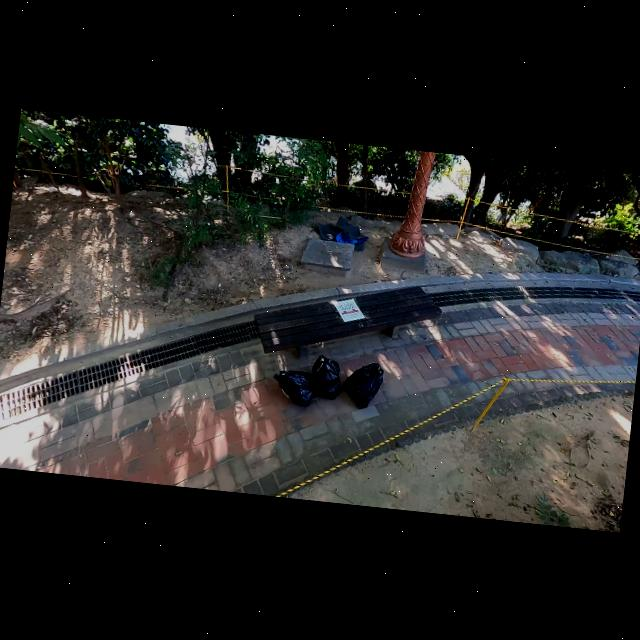trash: (338, 356, 386, 414), (314, 210, 372, 256), (270, 363, 318, 410), (304, 351, 346, 402)
